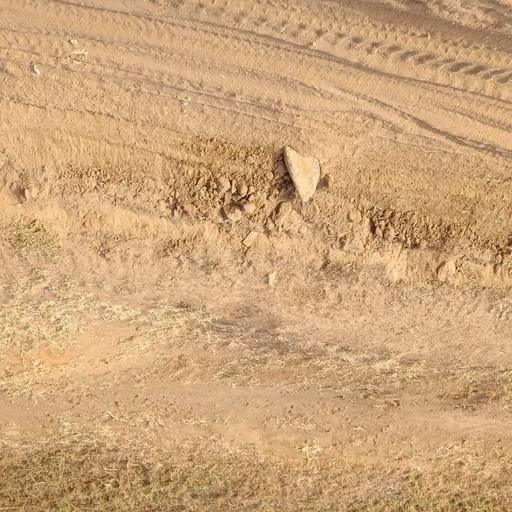vehicle_track: (0, 0, 512, 193)
